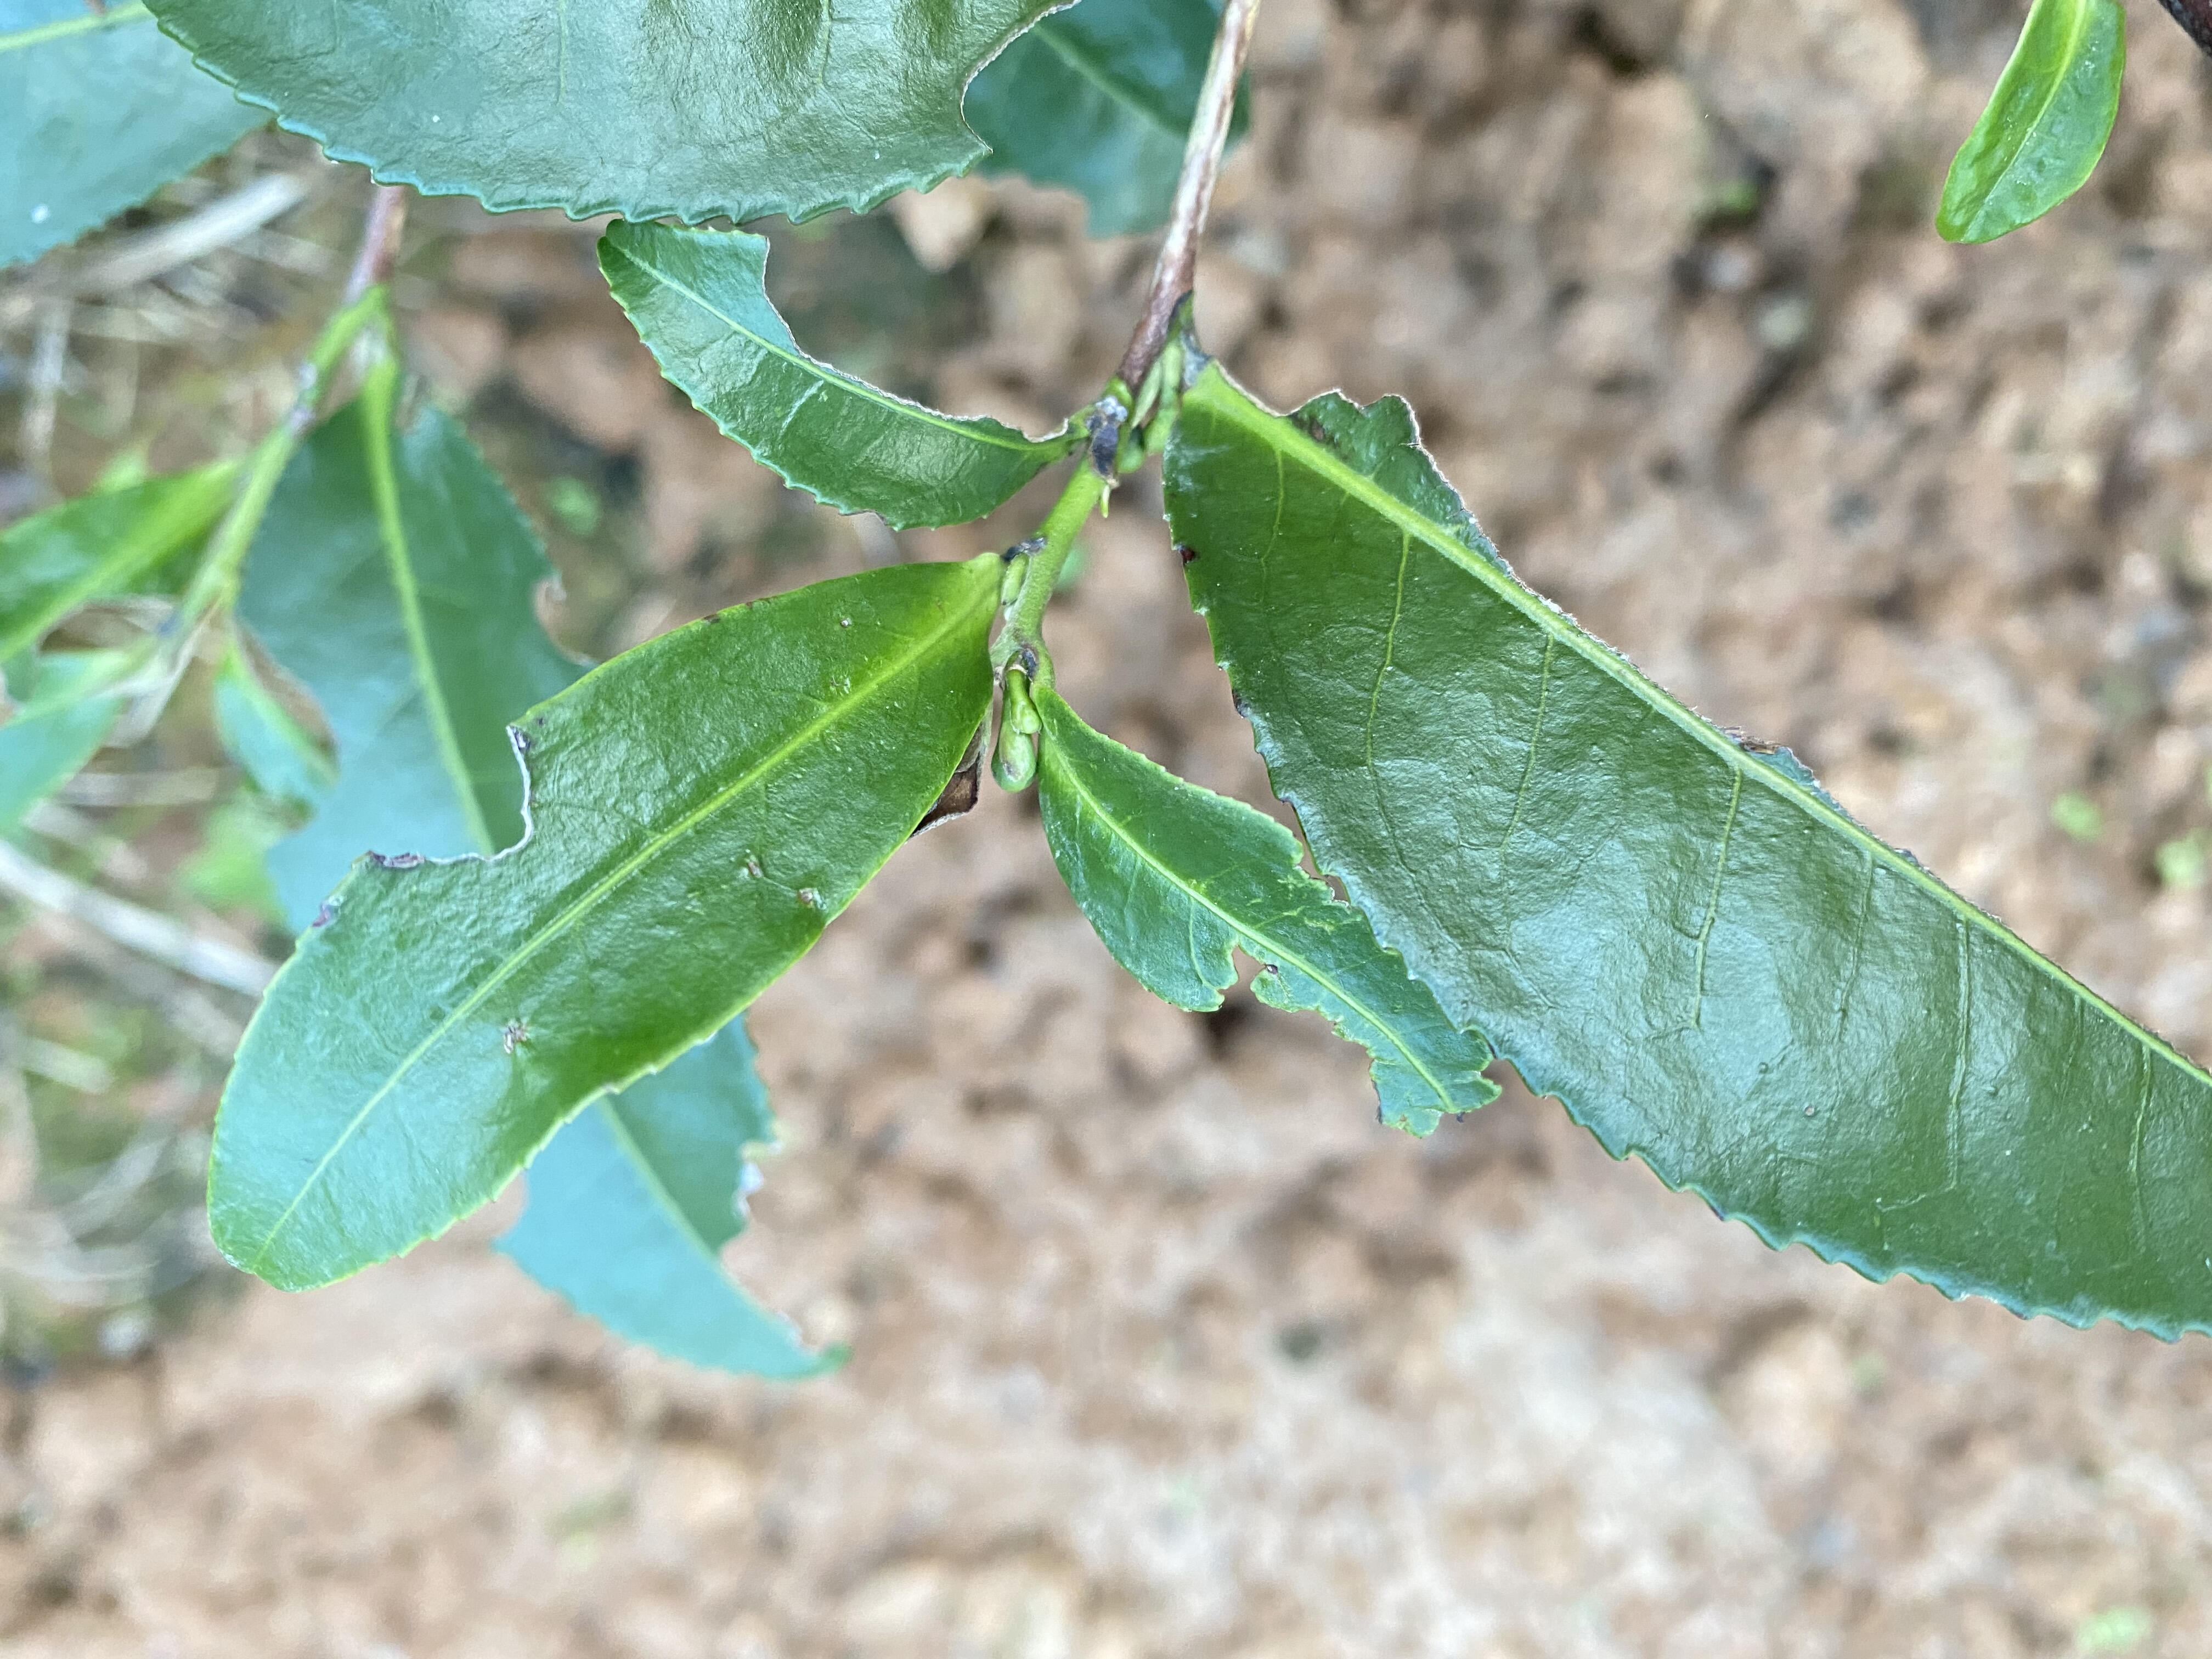chihuo_high: (1162, 356, 2212, 1340), (1035, 688, 1501, 1136), (596, 220, 1089, 532)
chihuo_low: (200, 558, 1005, 1291), (143, 3, 1089, 228)
